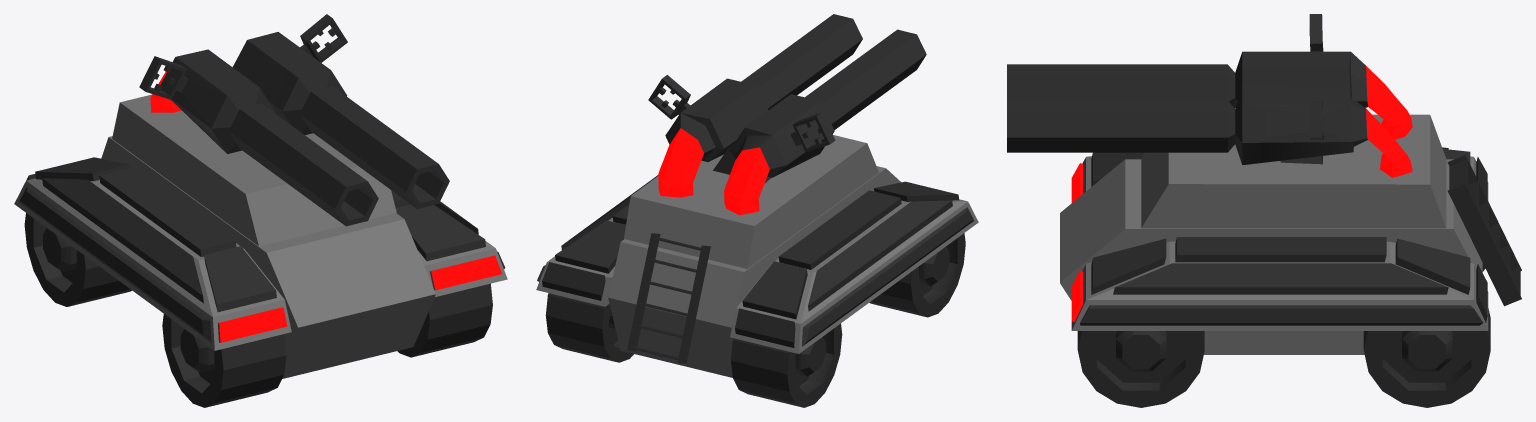
Rendered from tank2.fbx.
The picture shows the model from 3 angles, left to right: view 1: azimuth 30°, elevation 25°; view 2: azimuth 150°, elevation 25°; view 3: azimuth 270°, elevation 25°; orthographic projection. The views are drawn at different scales.
Visible parts, largest first — view 1: танк, пулемет; view 2: танк, пулемет; view 3: танк, пулемет.
Part boxes in pixels (x1,y1,x2,y2): танк: [14, 94, 507, 407]; пулемет: [139, 14, 449, 226]; танк: [536, 135, 978, 407]; пулемет: [648, 14, 926, 215]; танк: [1060, 114, 1521, 407]; пулемет: [1007, 14, 1412, 177].
Bounding box in the file's own units: 5.11 × 4.49 × 7.41.
